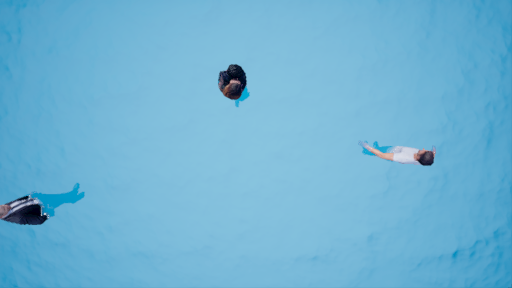person: (1, 179, 90, 229), (357, 134, 441, 168), (212, 57, 254, 113)
